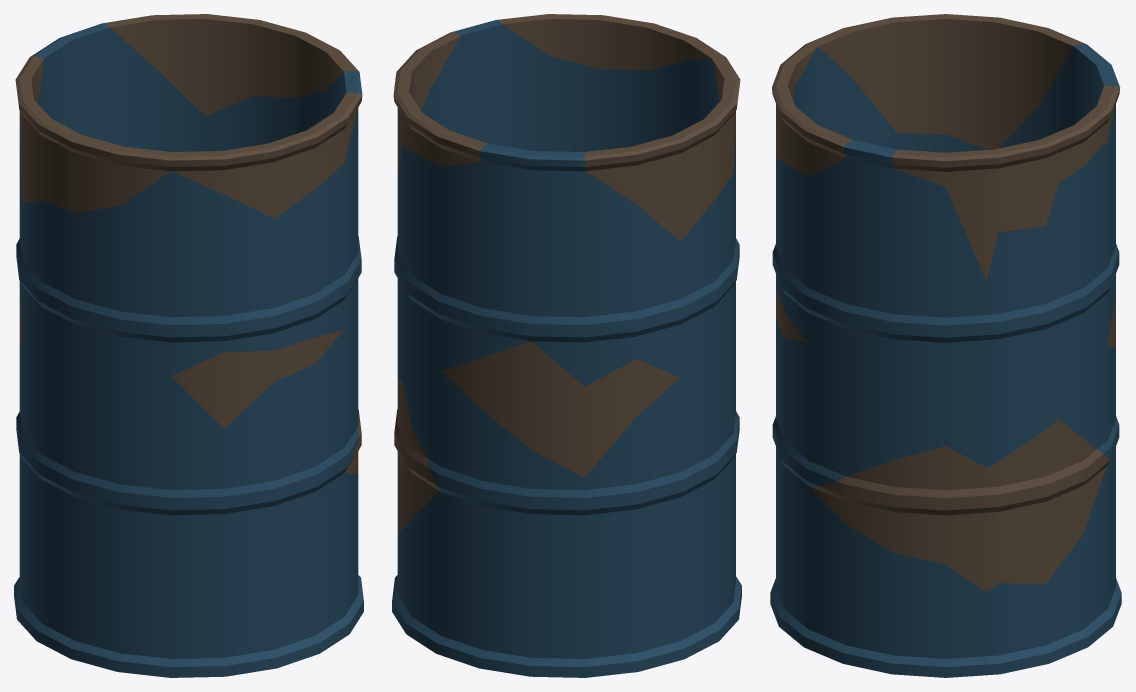
Rendered from barrel.glb.
3 views of the same model, side by side, from view 1: azimuth 30°, elevation 25°; view 2: azimuth 150°, elevation 25°; view 3: azimuth 270°, elevation 25° (orthographic).
Parts seen in each view (by area): view 1: Barrel; view 2: Barrel; view 3: Barrel.
Part boxes in pixels (box(x1,y1,x2,y2)): Barrel: box(14, 14, 363, 677); Barrel: box(392, 14, 741, 677); Barrel: box(770, 14, 1121, 677).
Size of the model in its own units: 0.7042 by 1.14 by 0.7042.
1 material, 1 textured.
